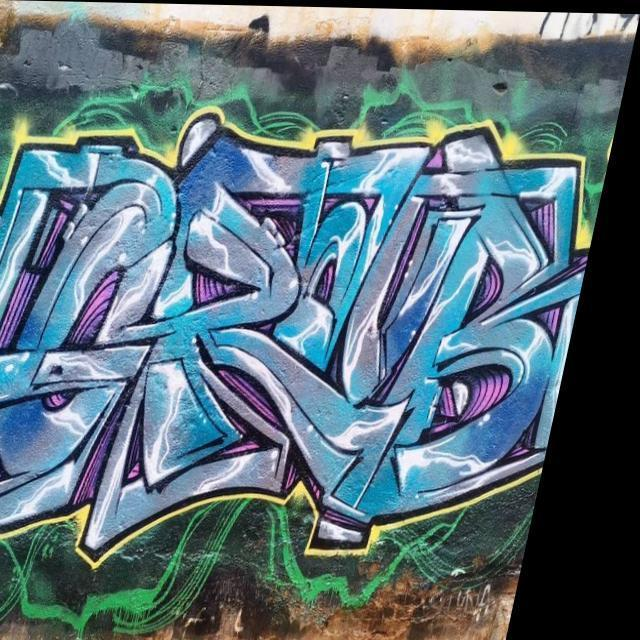-: (0, 92, 624, 616)
